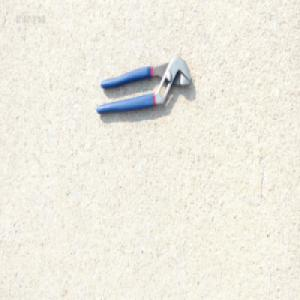Pliers: (95, 57, 192, 118)
